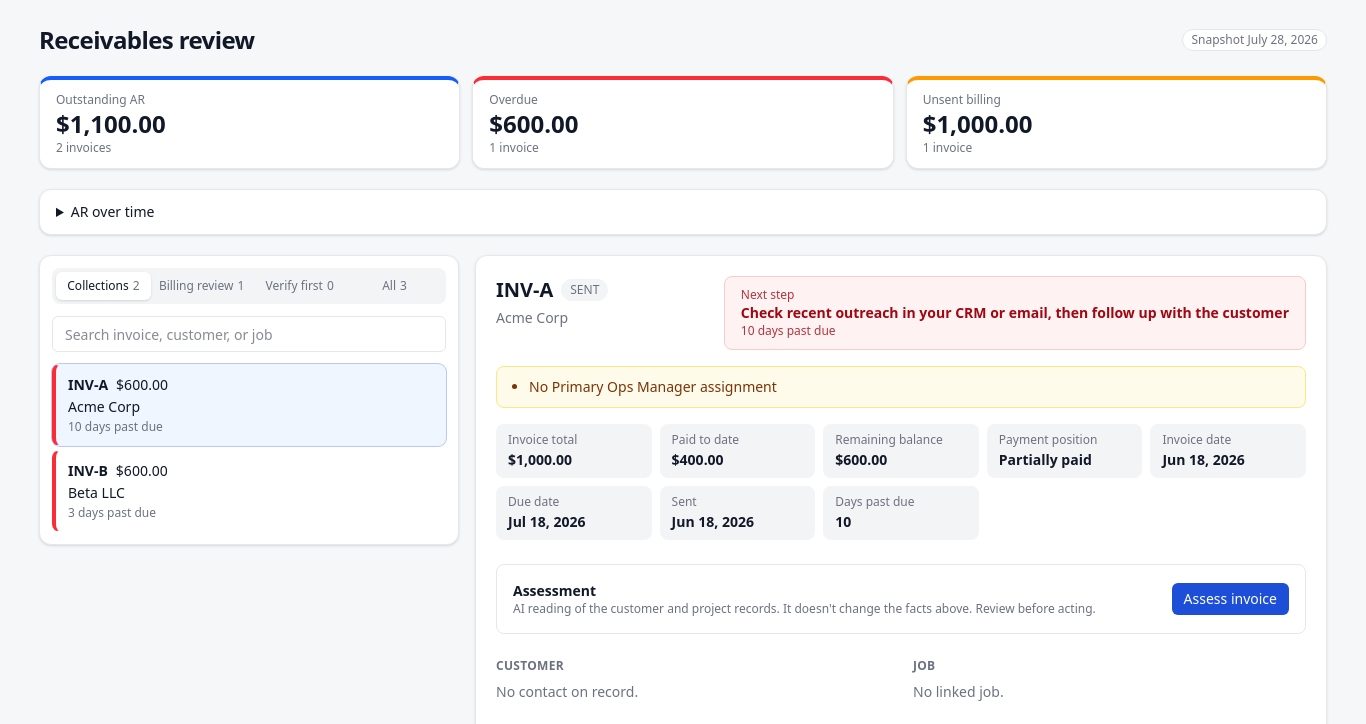
AR over time loads once when first opened and stays independent of worklist filters
Click the heading "AR over time" at (113, 212), box [71,202,154,221]
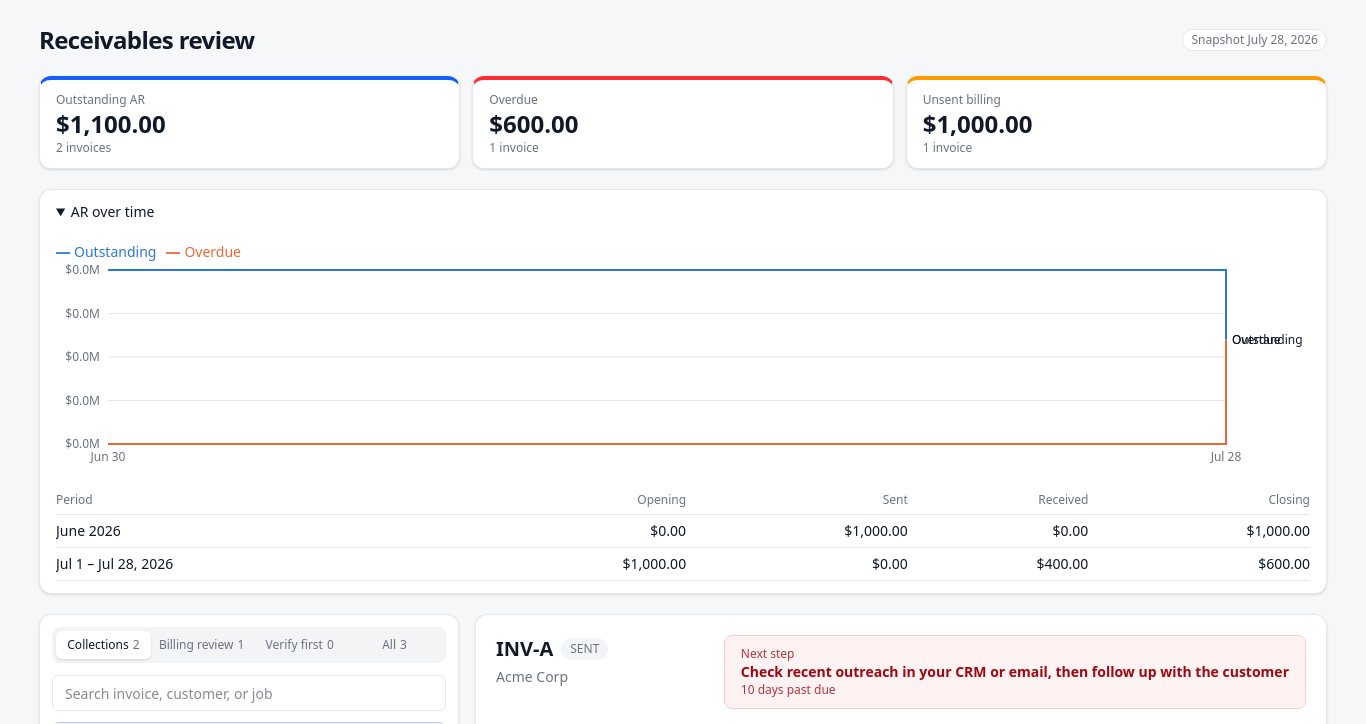
Check: the row "June 2026 $0.00 $1,000.00 $0.00 $1,000.00" is shown, box [56,515,1310,548]
Check: the row "Jul 1 – Jul 28, 2026 $1,000.00 $0.00 $400.00 $600.00" is shown, box [56,548,1310,580]
Click the tab "Billing review 1" at (202, 645), box [151,631,252,659]
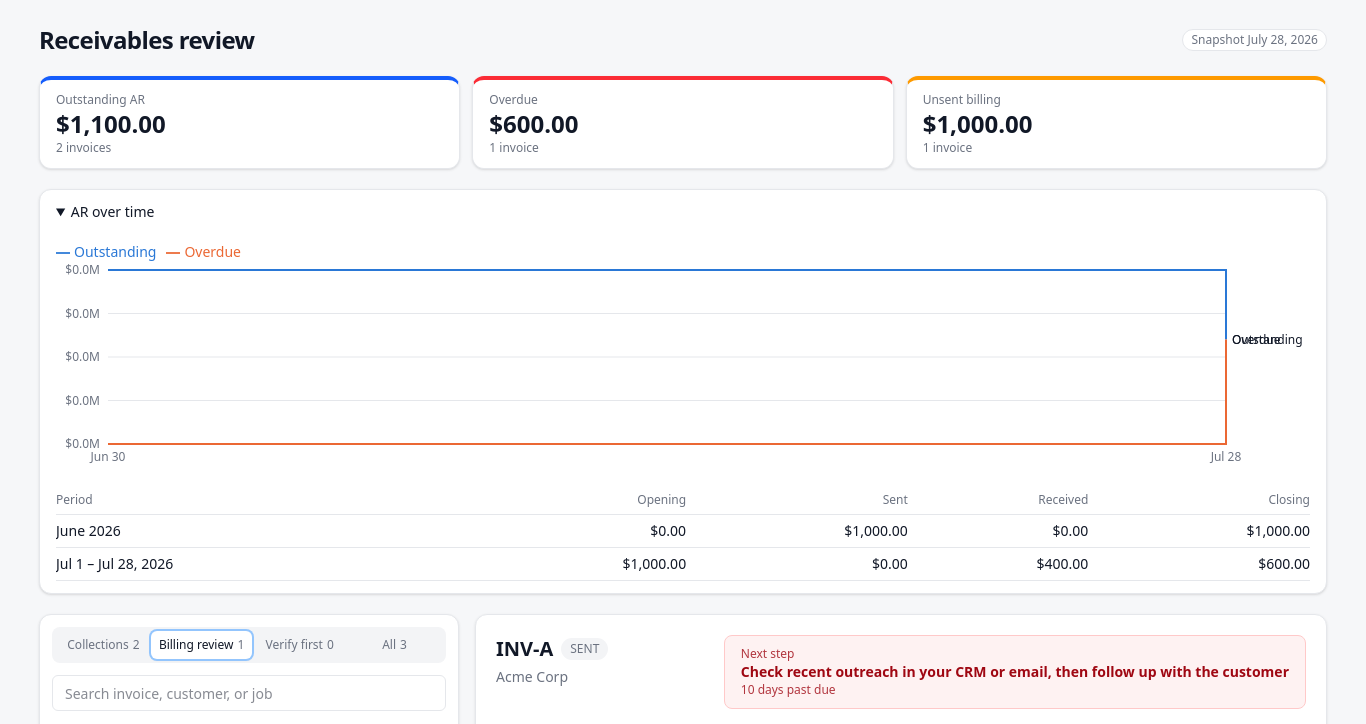
Click the heading "AR over time" at (113, 212), box [71,202,154,221]
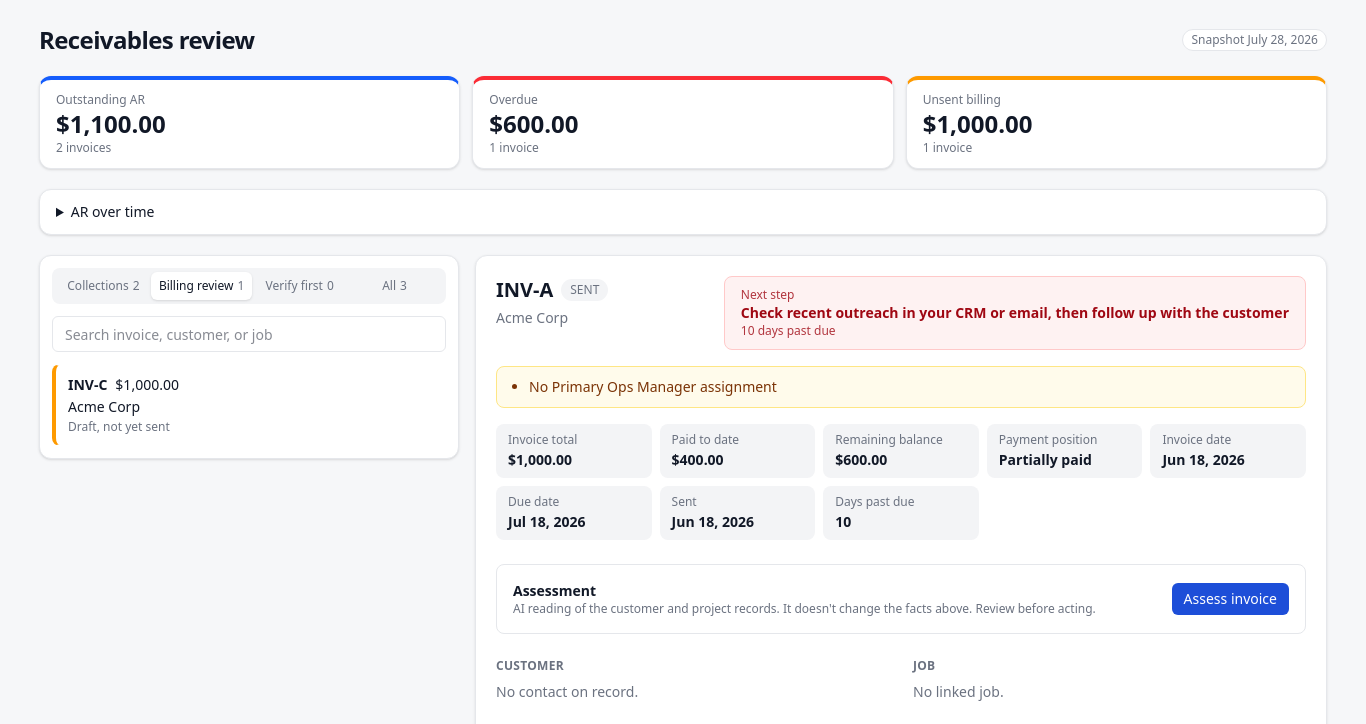
Click the heading "AR over time" at (113, 212), box [71,202,154,221]
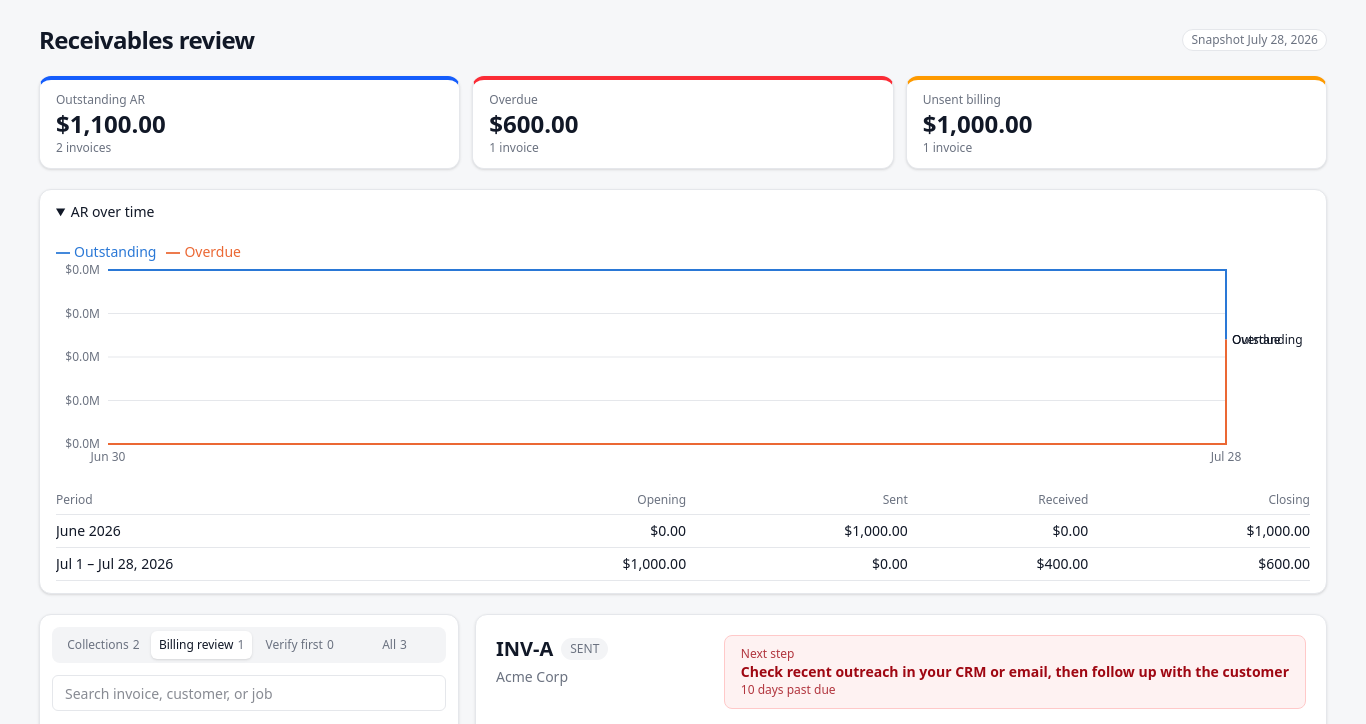
Check: the text "June 2026" is shown, box [56,515,464,548]
